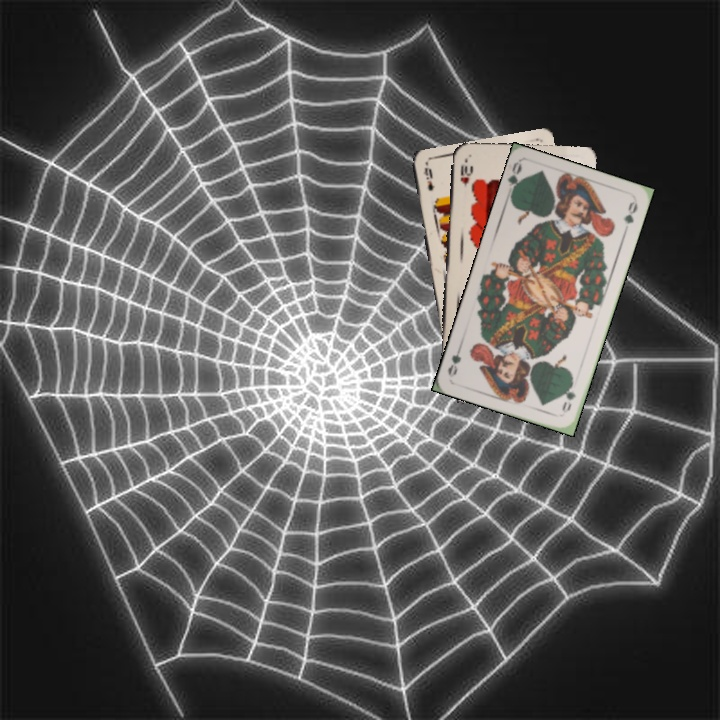E9: (419, 163, 437, 193)
GO: (504, 159, 526, 200), (558, 376, 579, 416)
H10: (456, 160, 471, 190)
